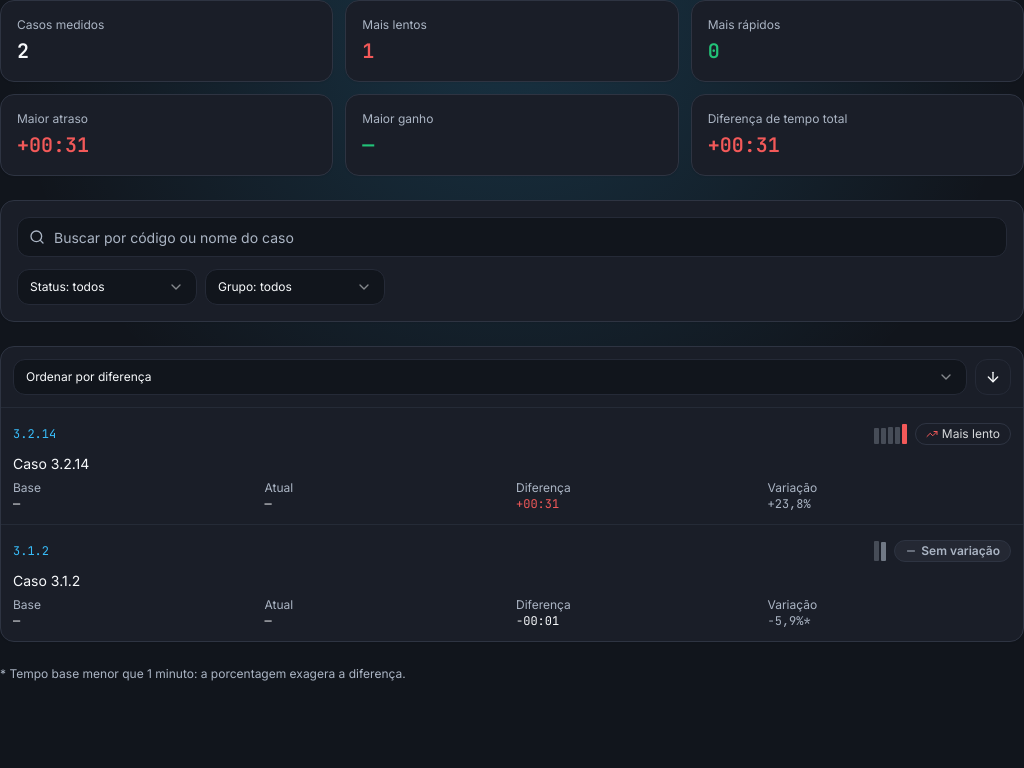
Test: aba Performance com tempos no banco › sem permissao de regravar, so explica
Step 1. Click the button named "Ver histórico do caso 3.2.14" → x=35, y=434, box x1=13 y1=412 x2=56 y2=456
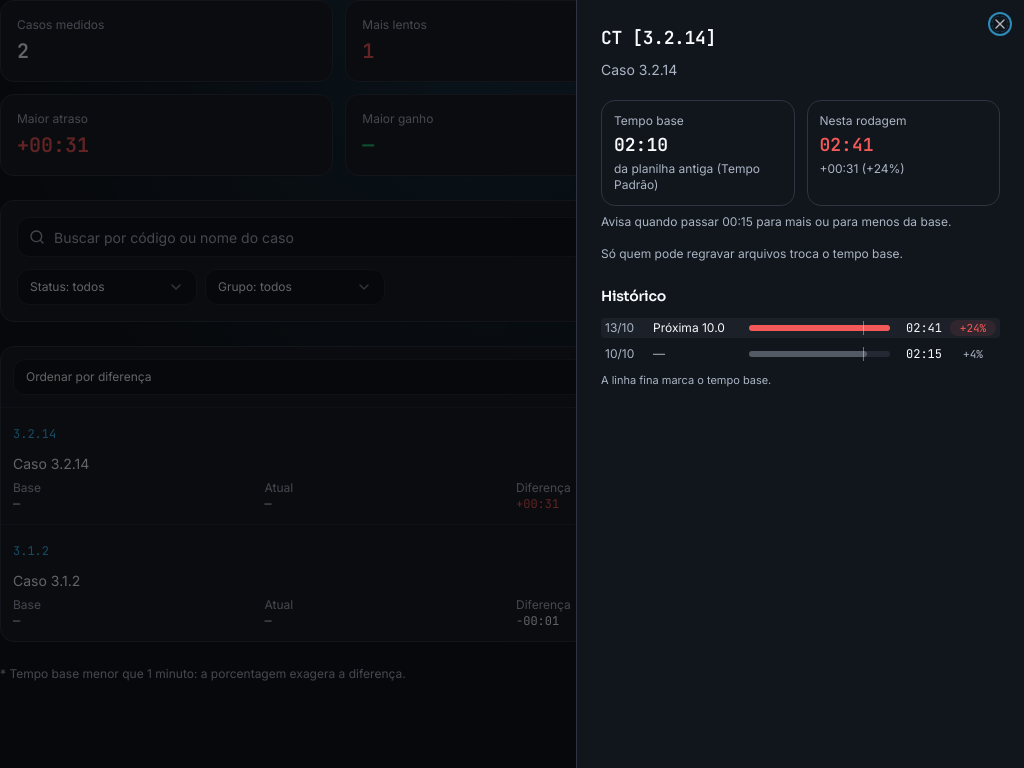
Expected: the text "Só quem pode regravar arquivos troca o tempo base." is shown, x1=601 y1=246 x2=903 y2=261
